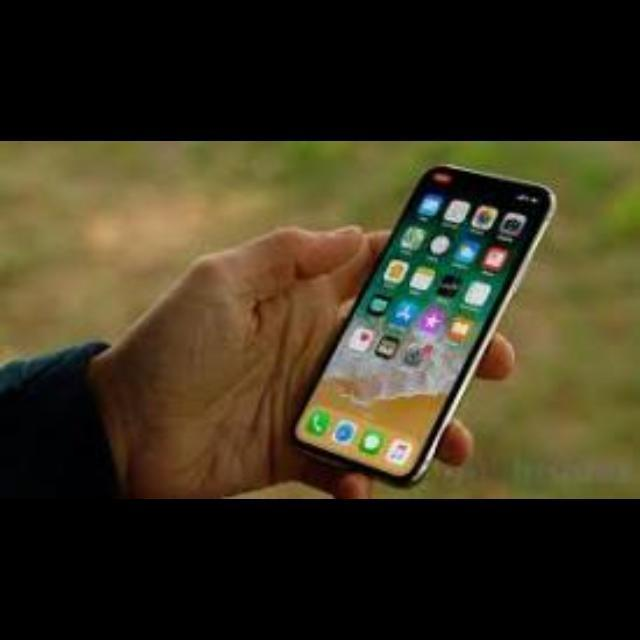PhoneUse: (280, 167, 590, 488)
